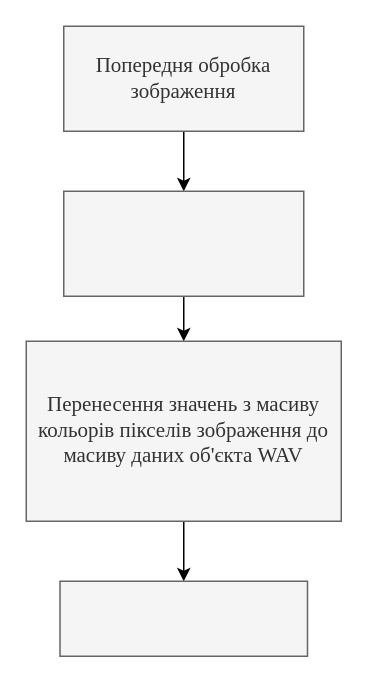
The diagram is 368 pixels wide and 683 high, and some of its shapes have lost their labels. Each missing label, with the centre of its shape:
"Збереження файлу WAV" goes at (183,618).
"Створення об'єкта WAV та його налаштування" goes at (183,243).
